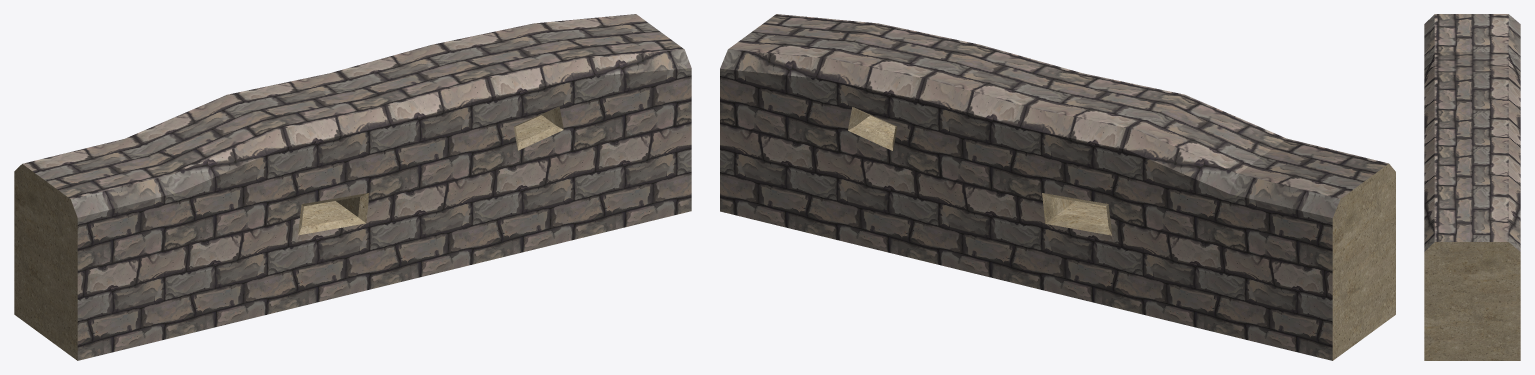
File: OuterWallB.fbx
The picture shows the model from 3 angles, left to right: view 1: azimuth 30°, elevation 25°; view 2: azimuth 150°, elevation 25°; view 3: azimuth 270°, elevation 25°; orthographic projection. The views are drawn at different scales.
Parts seen in each view (by area): view 1: polySurface28; view 2: polySurface28; view 3: polySurface28.
Part boxes in pixels (left/top/right/bottom): polySurface28: left=14, top=14, right=691, bottom=360; polySurface28: left=720, top=14, right=1395, bottom=360; polySurface28: left=1424, top=14, right=1520, bottom=360.
Bounding box in the file's own units: 11.18 × 3.06 × 2.
